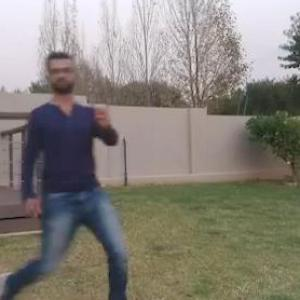takeoff-hand: (88, 90, 114, 128)
